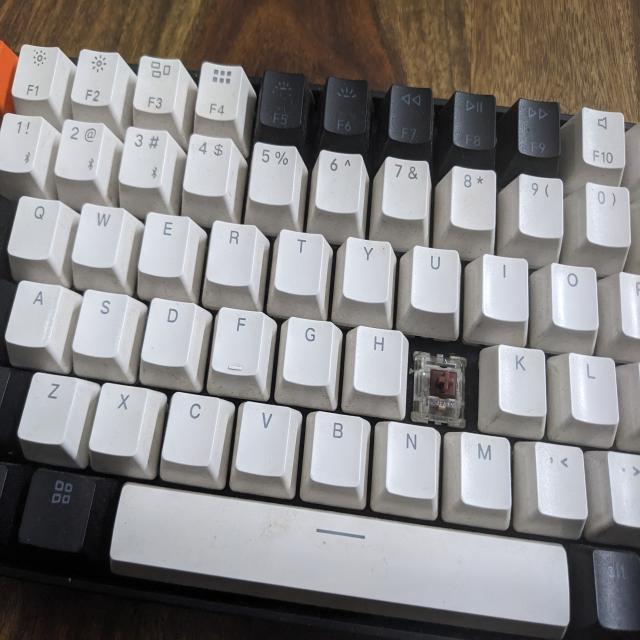C: (416, 343, 466, 421)
